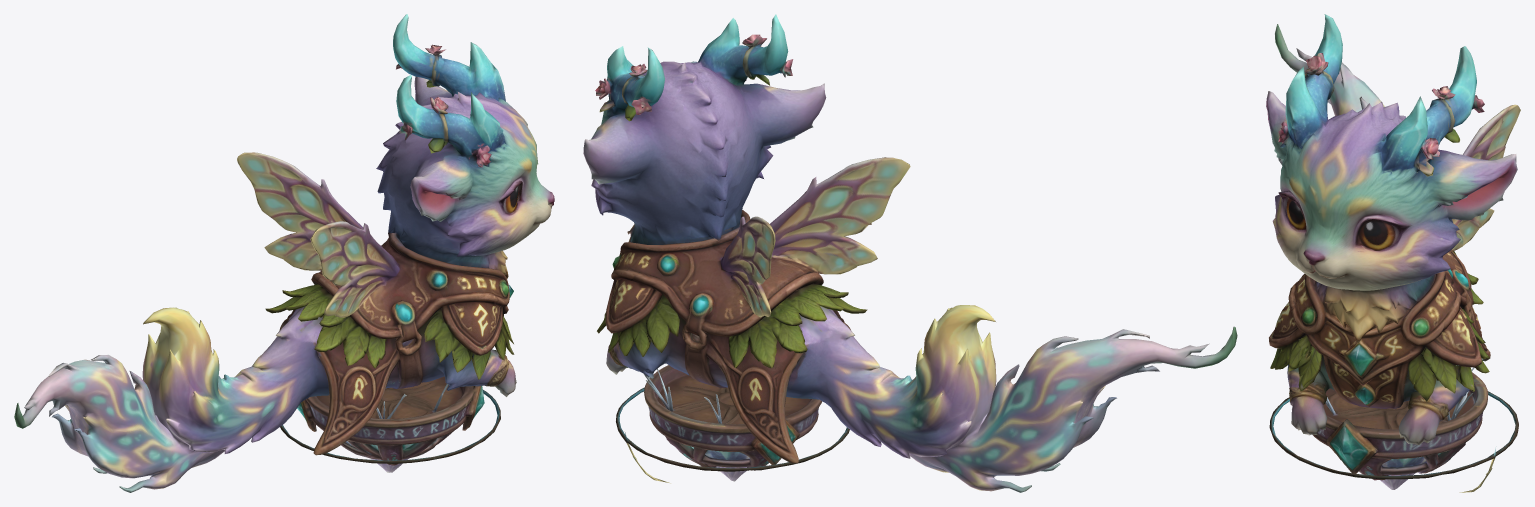
Rendered from Enemigo14.glb.
3 renders of one model, left to right at view 1: azimuth 30°, elevation 25°; view 2: azimuth 150°, elevation 25°; view 3: azimuth 270°, elevation 25°, orthographic. The views are drawn at different scales.
Parts seen in each view (by area): view 1: tripo_node_7eacb292-8a9b-4953-bb92-c4b16ffb2539; view 2: tripo_node_7eacb292-8a9b-4953-bb92-c4b16ffb2539; view 3: tripo_node_7eacb292-8a9b-4953-bb92-c4b16ffb2539.
Boxes of the visible parts, box(x1,y1,x2,y2) form: tripo_node_7eacb292-8a9b-4953-bb92-c4b16ffb2539: box(14, 14, 554, 492); tripo_node_7eacb292-8a9b-4953-bb92-c4b16ffb2539: box(583, 14, 1237, 492); tripo_node_7eacb292-8a9b-4953-bb92-c4b16ffb2539: box(1266, 14, 1520, 492).
Bounding box in the file's own units: 0.9799 × 0.7108 × 0.3488.
Materials: 1 (1 with a texture image).
